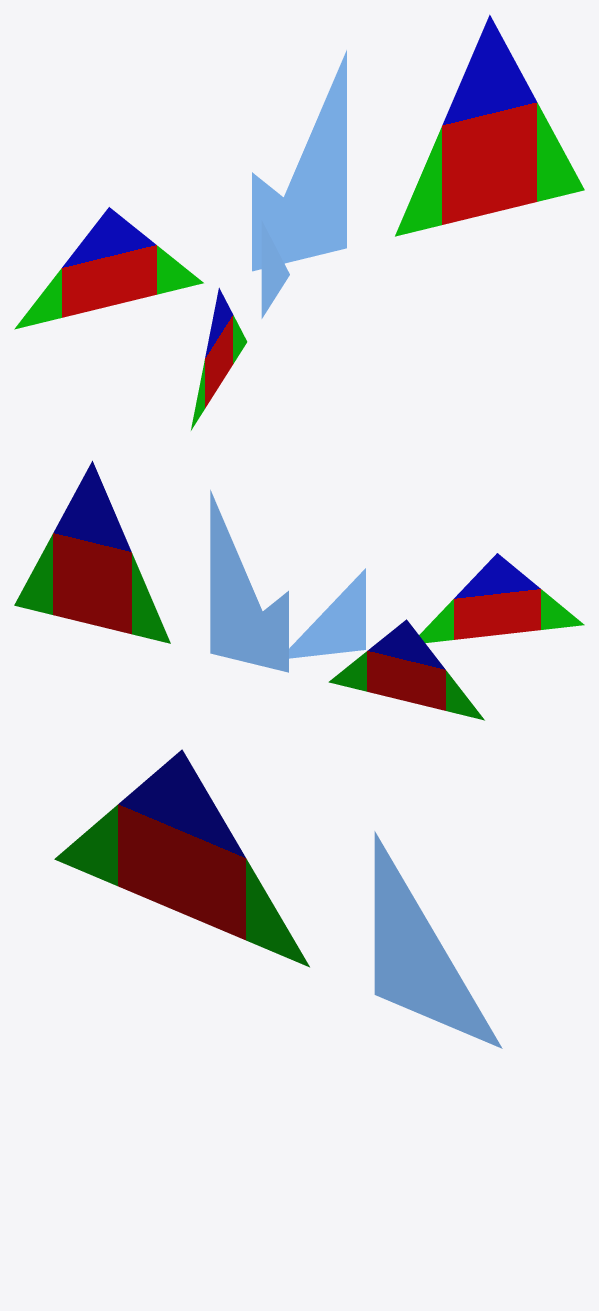
Rendered from SlotsAndInstances.glb.
3 renders of one model, top to bottom at view 1: azimuth 30°, elevation 25°; view 2: azimuth 150°, elevation 25°; view 3: azimuth 270°, elevation 25°, orthographic. The views are drawn at different scales.
Visible parts, largest first — view 1: Instance mirrored and nonuniform, Instance identity, Instance rotated; view 2: Instance mirrored and nonuniform, Instance rotated, Instance identity; view 3: Instance rotated.
Boxes of the visible parts, <box> form: Instance mirrored and nonuniform: <box>253,14,584,270</box>; Instance identity: <box>14,172,346,329</box>; Instance rotated: <box>191,220,289,430</box>; Instance mirrored and nonuniform: <box>14,460,287,671</box>; Instance rotated: <box>289,553,584,658</box>; Instance identity: <box>210,590,484,720</box>; Instance rotated: <box>54,749,502,1048</box>.
Bounding box in the file's own units: 6 × 2 × 2.71.
Materials: 2 (1 with a texture image).
